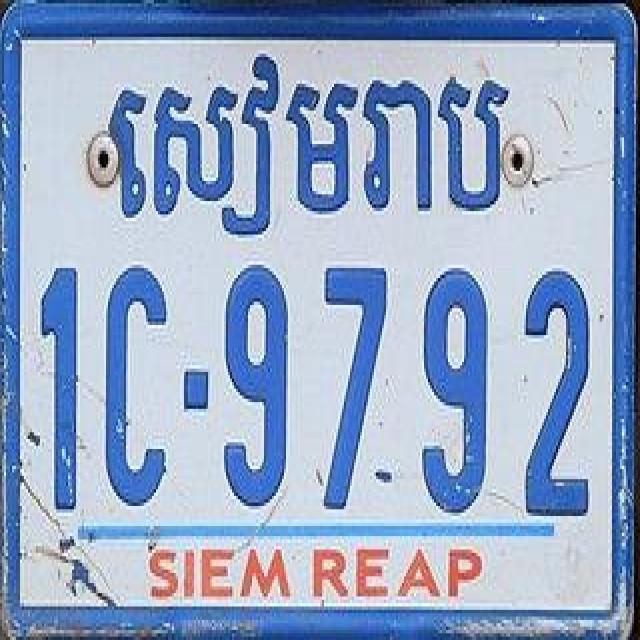Siem_Reap: (108, 54, 508, 243)
